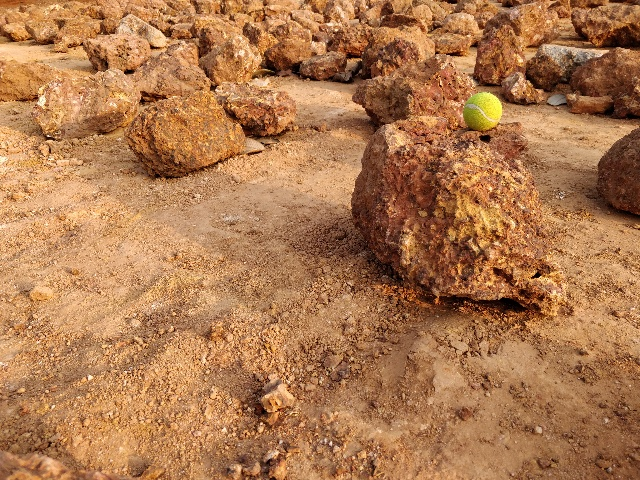ball: (458, 89, 504, 133)
